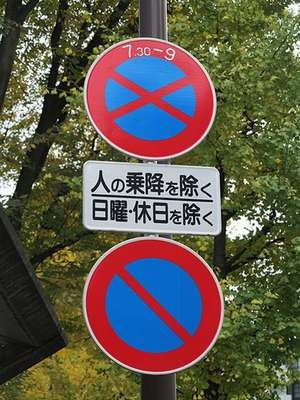Prohibition_sign: (68, 230, 228, 380), (73, 31, 225, 164)
